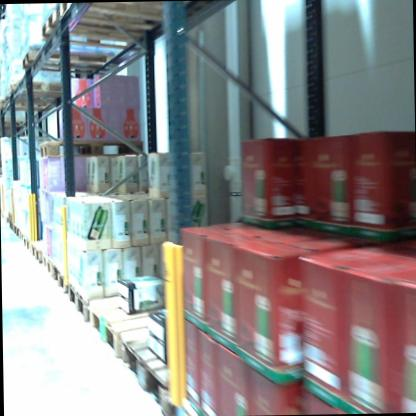pallet: (112, 313, 220, 414), (84, 283, 193, 365), (36, 4, 182, 59), (15, 37, 155, 83), (33, 131, 178, 175), (66, 281, 158, 330), (53, 0, 197, 30), (0, 87, 69, 116), (4, 73, 72, 102), (50, 258, 72, 298), (27, 240, 44, 265), (40, 253, 55, 276), (5, 209, 16, 226), (6, 219, 14, 235), (16, 227, 24, 243), (21, 234, 29, 250), (12, 223, 19, 237)
